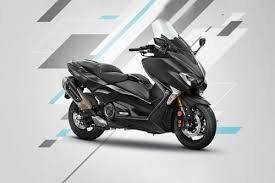motor: (62, 32, 217, 150)
